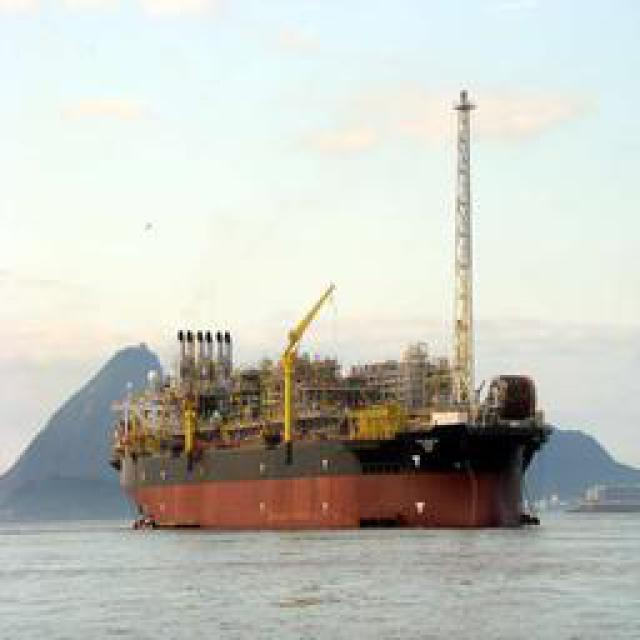Ship: (99, 349, 542, 532)
